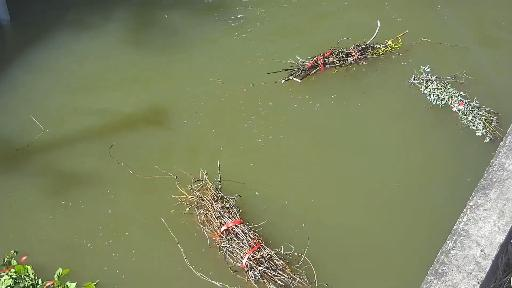twig: (110, 138, 330, 286), (250, 24, 442, 96), (404, 62, 505, 138), (0, 241, 93, 288)
